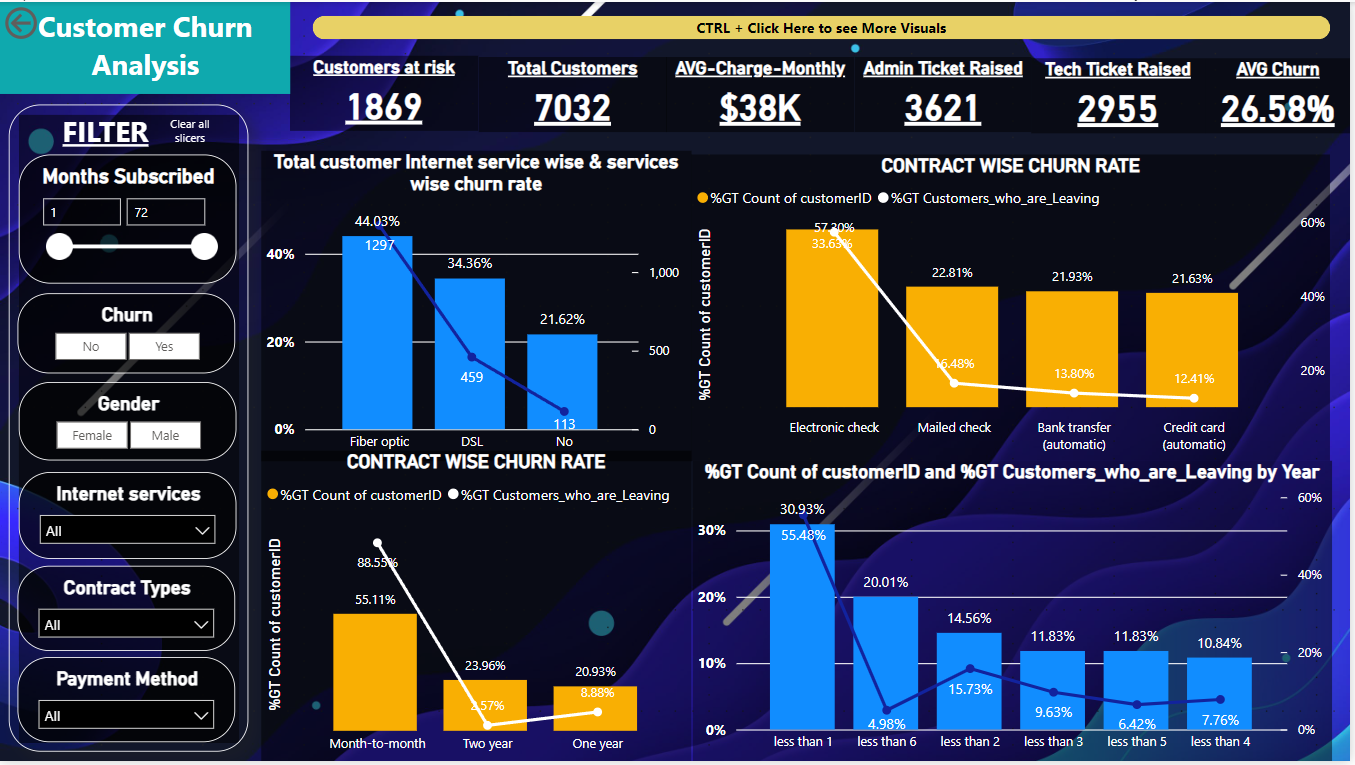

This screenshot's page, from the dashboard's own definition file:
{"tool":"powerbi","page":{"name":"Second analysis","canvas":[1280,720],"ordinal":1},"visuals":[{"type":"shape","box":[7.8,97,226.9,613.8],"z":0},{"type":"slicer","title":"Months Subscribed ","fields":{"Values":["01 Churn-Dataset.tenure"]},"box":[17.5,144.5,206.5,122.2],"z":1000},{"type":"slicer","title":"Churn ","fields":{"Values":["01 Churn-Dataset.Churn"]},"box":[16.5,276.4,206.5,75.6],"z":2000},{"type":"slicer","title":"Gender","fields":{"Values":["01 Churn-Dataset.gender"]},"box":[17.5,359.8,206.5,74.7],"z":3000},{"type":"slicer","title":"Internet services","fields":{"Values":["01 Churn-Dataset.InternetService"]},"box":[17.5,445.1,206.5,82.4],"z":4000},{"type":"slicer","title":"Contract Types","fields":{"Values":["01 Churn-Dataset.Contract"]},"box":[16.5,534.3,206.5,80.5],"z":5000},{"type":"slicer","title":"Payment Method","fields":{"Values":["01 Churn-Dataset.PaymentMethod"]},"box":[16.5,621.6,206.5,80.5],"z":6000},{"type":"actionButton","box":[145.5,98.9,68.8,46.5],"z":7000},{"type":"card","title":"Customers at risk","fields":{"Values":["01 Churn-Dataset.Measuree"]},"box":[275.5,51.1,178.3,71.1],"z":8000},{"type":"card","title":"Total Customers ","fields":{"Values":["CountNonNull(01 Churn-Dataset.customerID)"]},"box":[453.8,52.4,178.3,71.1],"z":9000},{"type":"card","title":"AVG-Charge-Monthly  ","fields":{"Values":["01 Churn-Dataset.Measure"]},"box":[632.1,52.4,178.3,71.1],"z":10000},{"type":"card","title":"Admin Ticket Raised","fields":{"Values":["Sum(01 Churn-Dataset.numAdminTickets)"]},"box":[810.4,52.4,167.1,71.1],"z":11000},{"type":"card","title":"Tech Ticket Raised","fields":{"Values":["Sum(01 Churn-Dataset.numTechTickets)"]},"box":[977.5,53.6,164.6,71.1],"z":12000},{"type":"textbox","box":[17.5,99.7,164.6,44.9],"z":13000},{"type":"textbox","box":[0,0,275.5,87.3],"z":14000},{"type":"shape","box":[296.7,12.5,965,22.4],"z":15000},{"type":"lineClusteredColumnComboChart","title":"Total customer Internet service wise & services wise churn rate","fields":{"Category":["01 Churn-Dataset.InternetService"],"Y2":["01 Churn-Dataset.Customers_who_are_Leaving"],"Y":["CountNonNull(01 Churn-Dataset.customerID)"]},"box":[248.1,140.9,407.7,294.2],"z":16000},{"type":"lineStackedColumnComboChart","title":"CONTRACT WISE CHURN RATE","fields":{"Y2":["01 Churn-Dataset.Customers_who_are_Leaving"],"Y":["CountNonNull(01 Churn-Dataset.customerID)"],"Category":["01 Churn-Dataset.Contract"]},"box":[248.1,425.1,407.7,295.5],"z":17000},{"type":"lineStackedColumnComboChart","title":"CONTRACT WISE CHURN RATE","fields":{"Y2":["01 Churn-Dataset.Customers_who_are_Leaving"],"Y":["CountNonNull(01 Churn-Dataset.customerID)"],"Category":["01 Churn-Dataset.PaymentMethod"]},"box":[655.8,144.6,605.9,290.5],"z":18000},{"type":"lineClusteredColumnComboChart","fields":{"Y":["CountNonNull(01 Churn-Dataset.customerID)"],"Y2":["01 Churn-Dataset.Customers_who_are_Leaving"],"Category":["01 Churn-Dataset.Year"]},"box":[656,435,606,285],"z":19000},{"type":"card","title":"AVG Churn  ","fields":{"Values":["01 Churn-Dataset.avg_churn"]},"box":[1142,53.6,138.4,71.1],"z":20000},{"type":"actionButton","box":[0,0,100,40],"z":21000}]}

Visuals, with their boxes in screenshot pixels (x1, y1, x2, y2), scaled from the page's 1280x720 canvas onto the 1355x765 screenshot:
shape: {"x1": 8, "y1": 103, "x2": 248, "y2": 755}
"Months Subscribed " slicer: {"x1": 19, "y1": 154, "x2": 237, "y2": 283}
"Churn " slicer: {"x1": 17, "y1": 294, "x2": 236, "y2": 374}
"Gender" slicer: {"x1": 19, "y1": 382, "x2": 237, "y2": 462}
"Internet services" slicer: {"x1": 19, "y1": 473, "x2": 237, "y2": 560}
"Contract Types" slicer: {"x1": 17, "y1": 568, "x2": 236, "y2": 653}
"Payment Method" slicer: {"x1": 17, "y1": 660, "x2": 236, "y2": 746}
actionButton: {"x1": 154, "y1": 105, "x2": 227, "y2": 154}
"Customers at risk" card: {"x1": 292, "y1": 54, "x2": 480, "y2": 130}
"Total Customers " card: {"x1": 480, "y1": 56, "x2": 669, "y2": 131}
"AVG-Charge-Monthly  " card: {"x1": 669, "y1": 56, "x2": 858, "y2": 131}
"Admin Ticket Raised" card: {"x1": 858, "y1": 56, "x2": 1035, "y2": 131}
"Tech Ticket Raised" card: {"x1": 1035, "y1": 57, "x2": 1209, "y2": 132}
textbox: {"x1": 19, "y1": 106, "x2": 193, "y2": 154}
textbox: {"x1": 0, "y1": 0, "x2": 292, "y2": 93}
shape: {"x1": 314, "y1": 13, "x2": 1336, "y2": 37}
"Total customer Internet service wise & services wise churn rate" lineClusteredColumnComboChart: {"x1": 263, "y1": 150, "x2": 694, "y2": 462}
"CONTRACT WISE CHURN RATE" lineStackedColumnComboChart: {"x1": 263, "y1": 452, "x2": 694, "y2": 764}
"CONTRACT WISE CHURN RATE" lineStackedColumnComboChart: {"x1": 694, "y1": 154, "x2": 1336, "y2": 462}
lineClusteredColumnComboChart - CountNonNull(01 Churn-Dataset.customerID) x 01 Churn-Dataset.Customers_who_are_Leaving: {"x1": 694, "y1": 462, "x2": 1336, "y2": 764}
"AVG Churn  " card: {"x1": 1209, "y1": 57, "x2": 1354, "y2": 132}
actionButton: {"x1": 0, "y1": 0, "x2": 106, "y2": 42}
